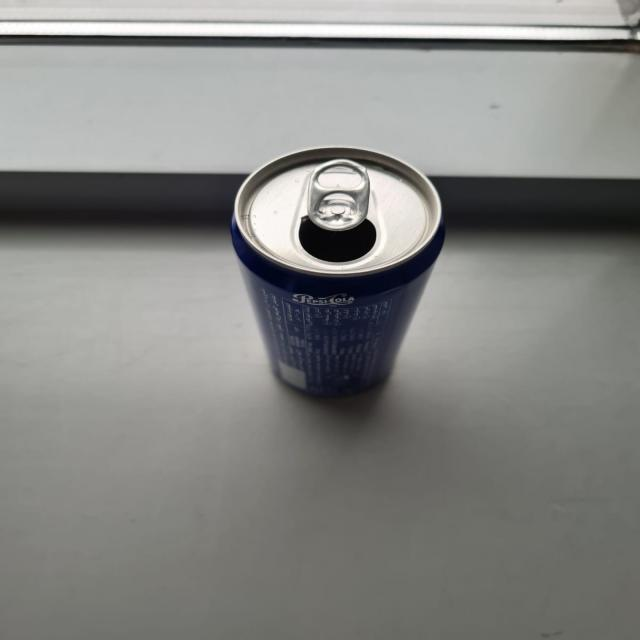can: (230, 146, 446, 414)
